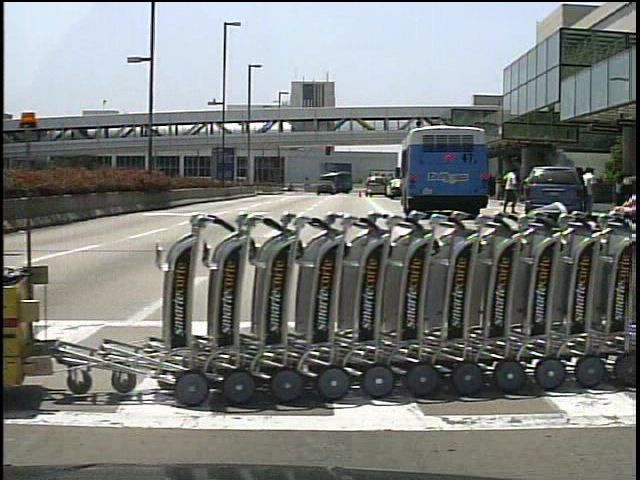person: (580, 165, 601, 214), (500, 165, 518, 215), (573, 164, 588, 219)
